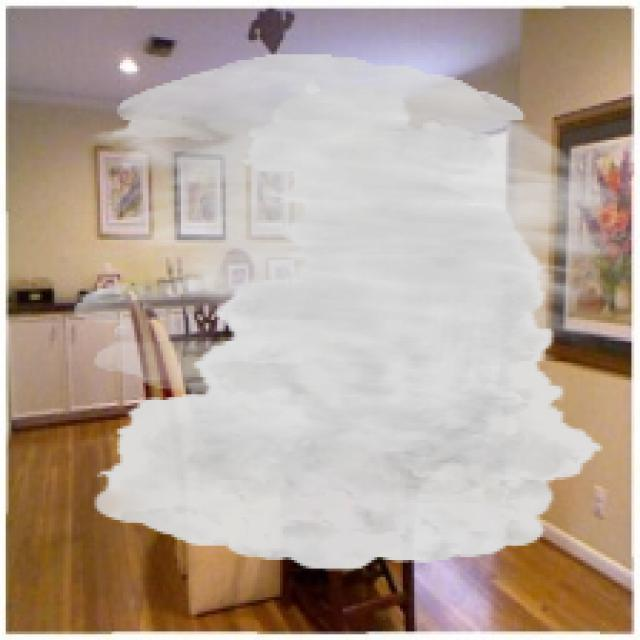Smoke: (74, 54, 626, 572)
